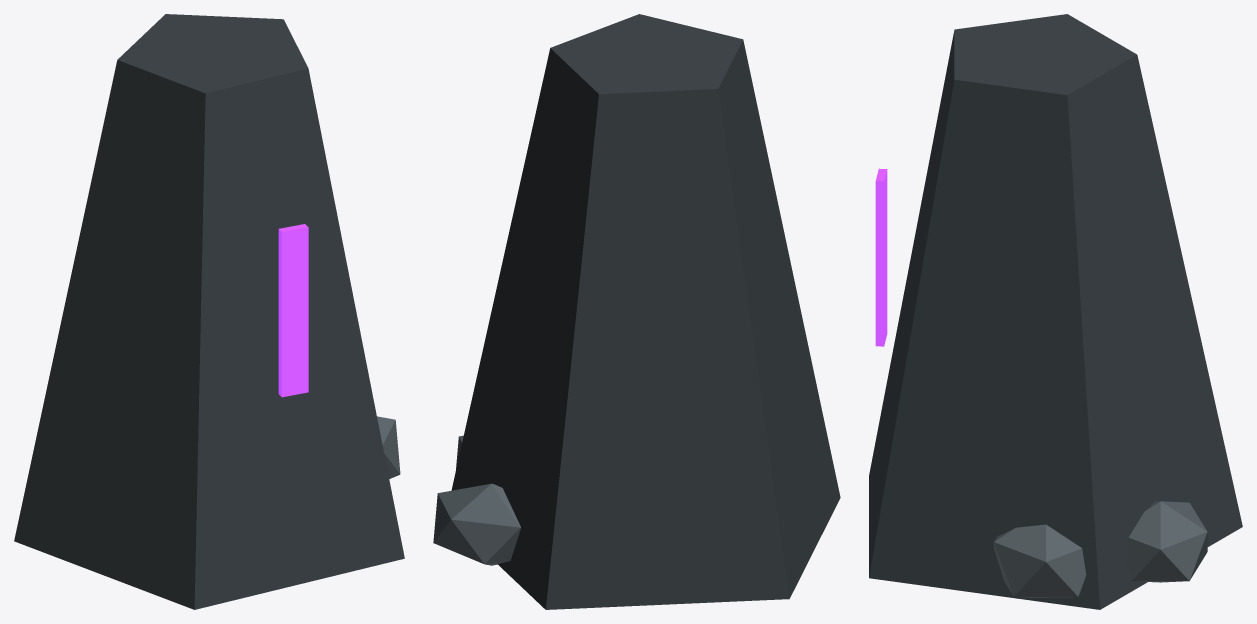
File: standing_stone_c.glb
3 views of the same model, side by side, from view 1: azimuth 30°, elevation 25°; view 2: azimuth 150°, elevation 25°; view 3: azimuth 270°, elevation 25° (orthographic).
Visible parts, largest first — view 1: Monolith.002, Rune.002, Foot_Rock_3.002; view 2: Monolith.002, Foot_Rock_1.002; view 3: Monolith.002, Foot_Rock_3.002, Foot_Rock_1.002, Rune.002.
Part boxes in pixels (x1,y1,x2,y2): Monolith.002: (14,14,404,609); Rune.002: (278,224,308,397); Foot_Rock_3.002: (377,416,400,478); Monolith.002: (451,14,840,609); Foot_Rock_1.002: (433,483,520,565); Monolith.002: (869,14,1242,609); Foot_Rock_3.002: (994,524,1086,597); Foot_Rock_1.002: (1127,501,1207,582); Rune.002: (875,168,887,346).
Size of the model in its own units: 1.69 by 2.2 by 1.55.
